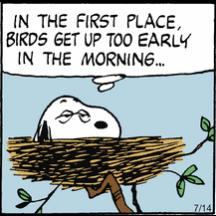snoopy: (32, 93, 122, 141)
